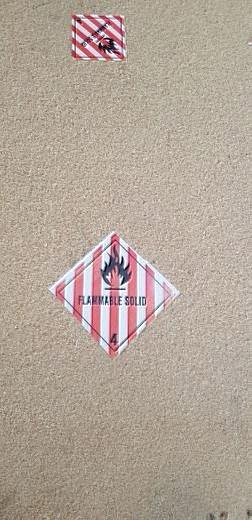flammable-solid: (55, 241, 178, 353), (71, 12, 127, 62)
